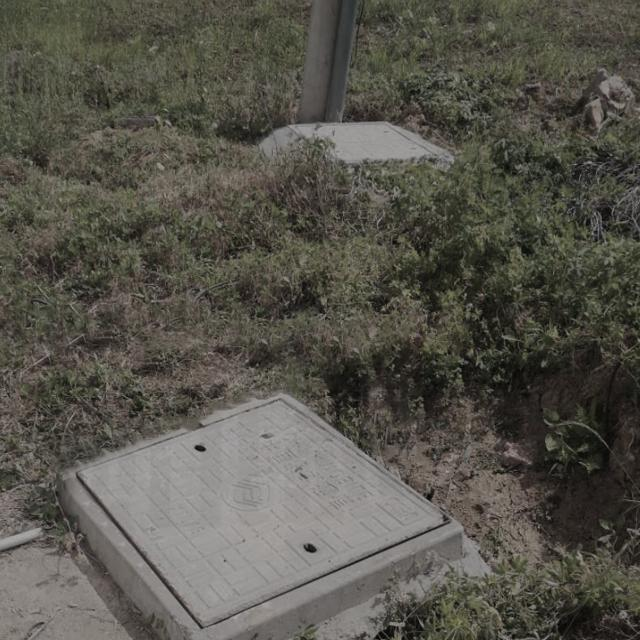good: (57, 389, 465, 640)
